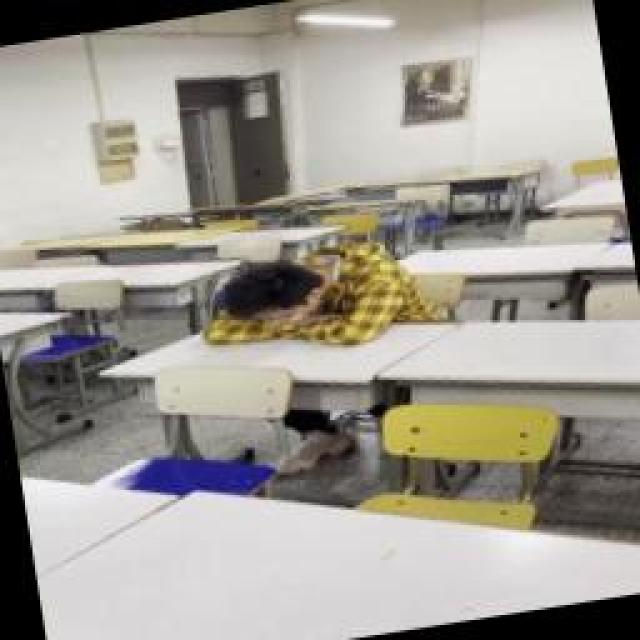sleep: (195, 230, 440, 372)
